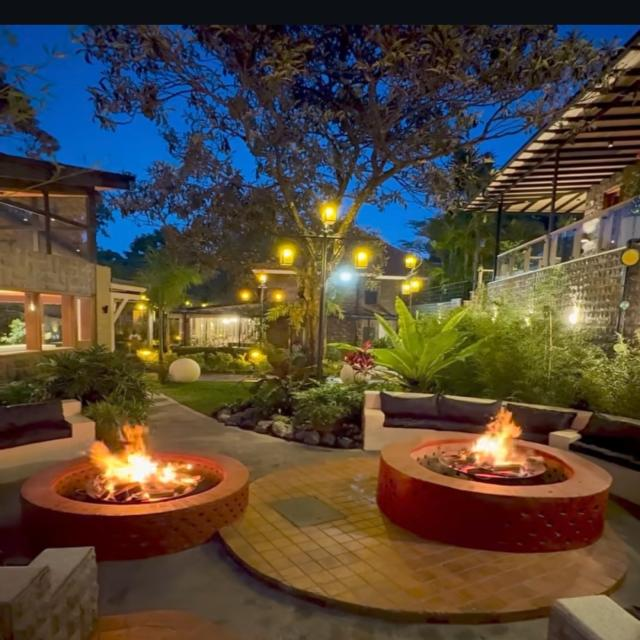fire: (88, 425, 159, 484), (471, 406, 522, 466)
